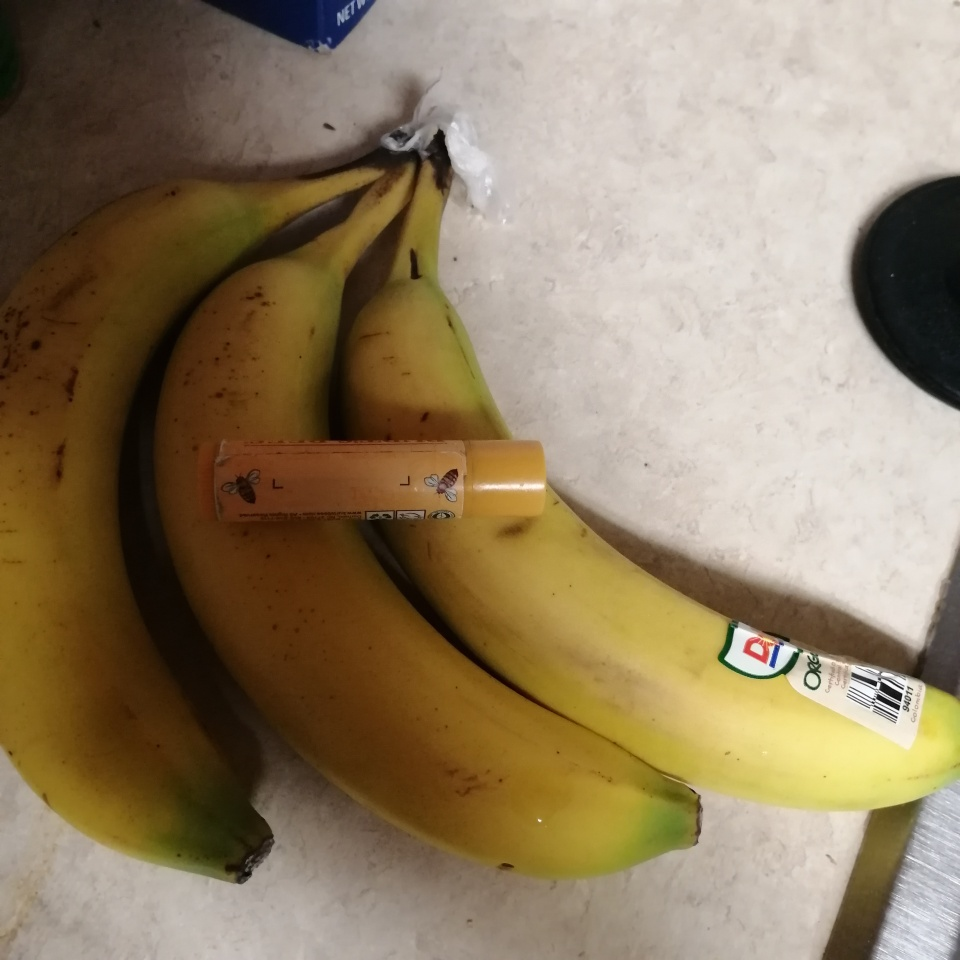chapstick: (197, 437, 549, 519)
